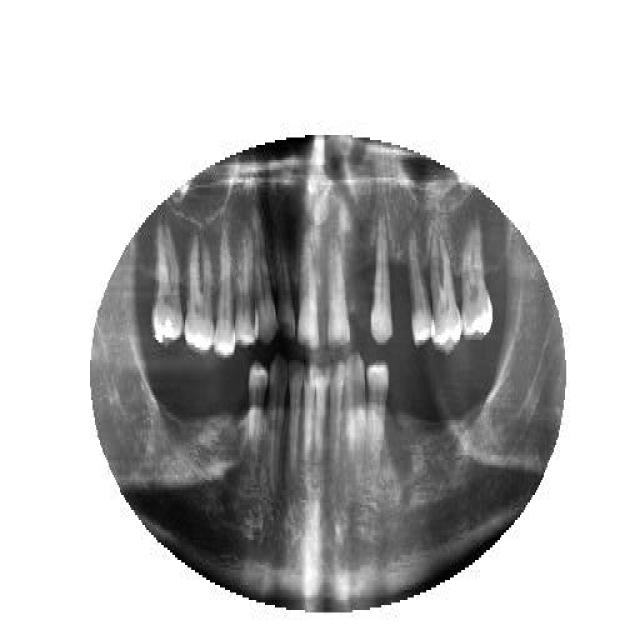Fillings: (150, 218, 184, 348)
